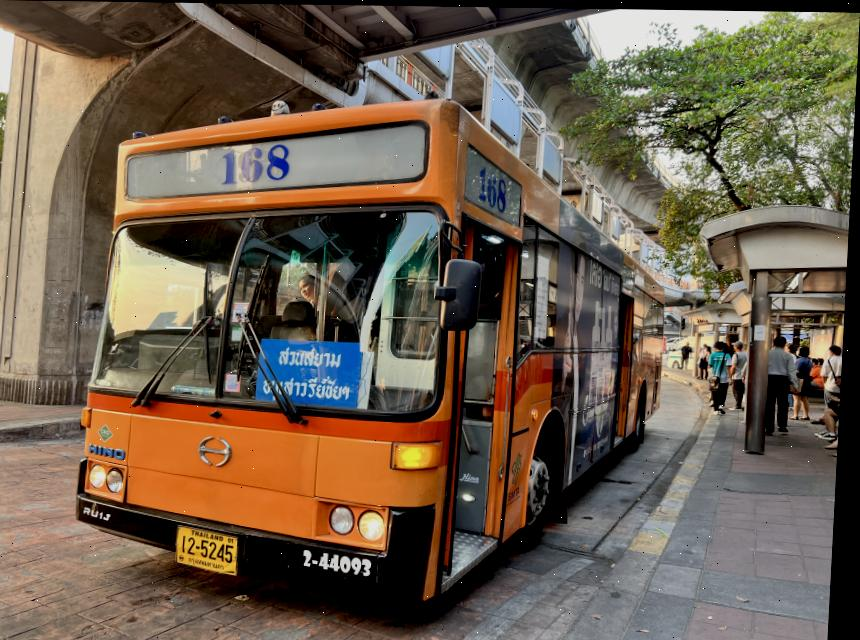BMTA-bus: (80, 99, 666, 605)
Bus Line Number: (213, 143, 306, 185)
Bus Side Number: (293, 537, 388, 582)
Destination Sign: (257, 342, 369, 405)
